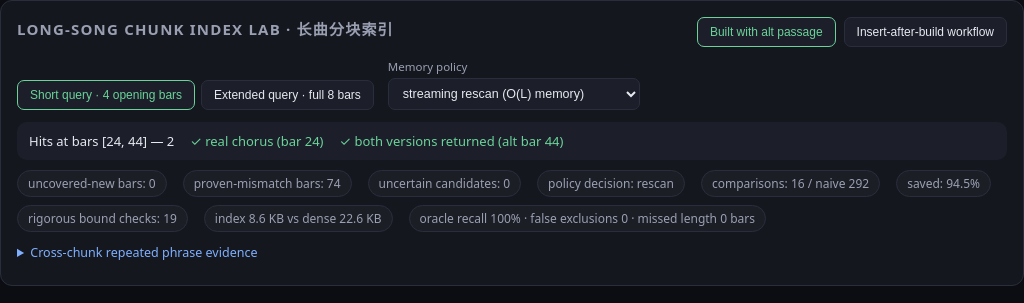
index lab › short query returns both passages; extended query excludes the alt
The image size is (1024, 303).
Expected: the text with test id "lab-alt" shows "both versions returned", [340, 132, 564, 150]
Expected: the text with test id "lab-oracle" shows "recall 100%", [408, 205, 766, 232]
Click the button with test id "lab-query-long": (288, 95) [201, 80, 374, 110]
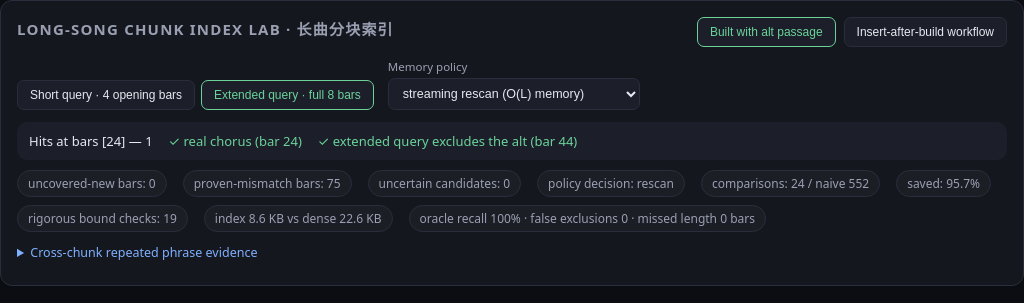
Expected: the text with test id "lab-hits" shows "24", [106, 132, 121, 150]
Now the element with test id "lab-hits" no longer shows "44"
Now the text with test id "lab-alt" shows "excludes the alt", box [318, 132, 577, 150]
